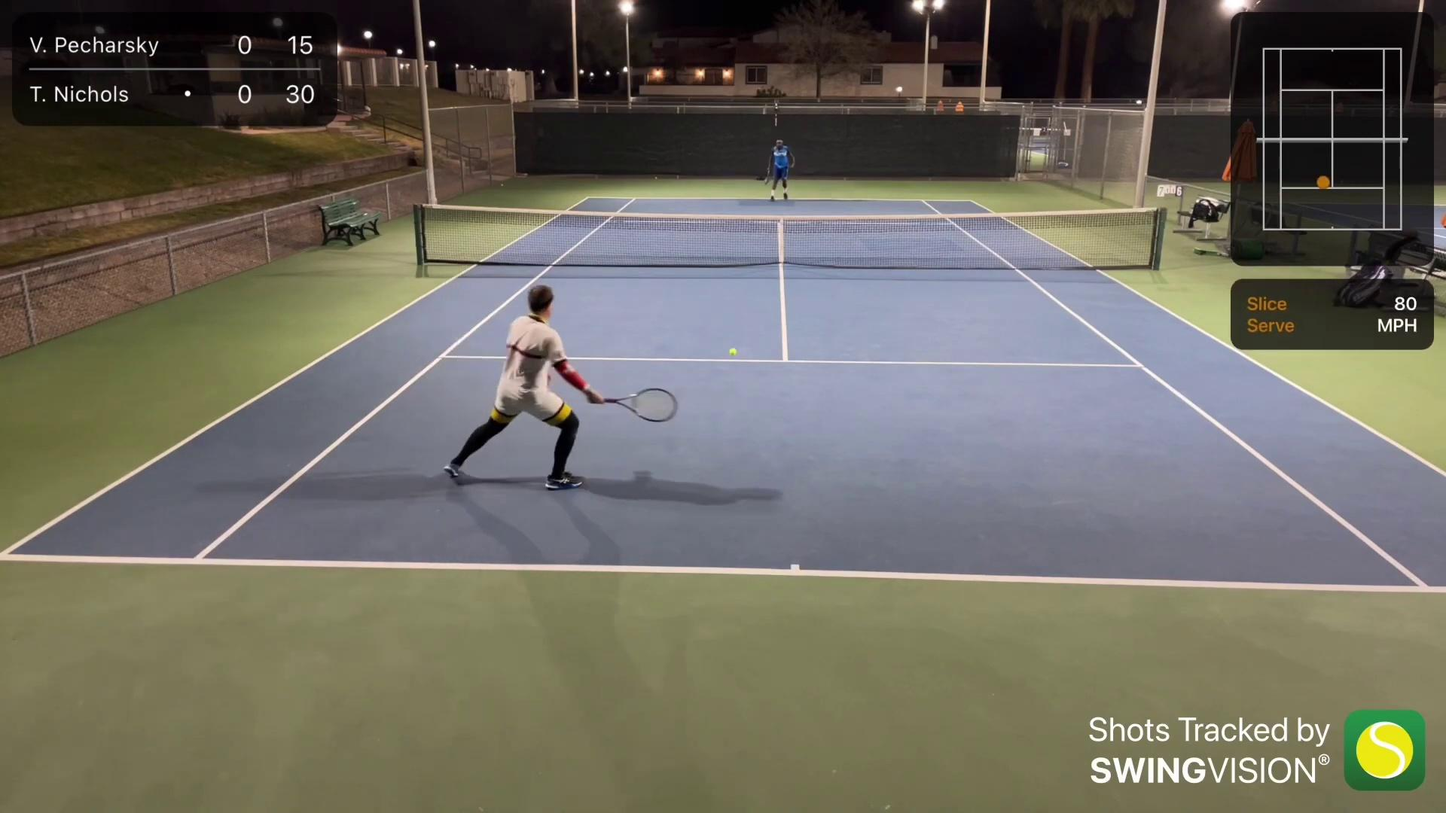ball: (729, 346, 738, 358)
